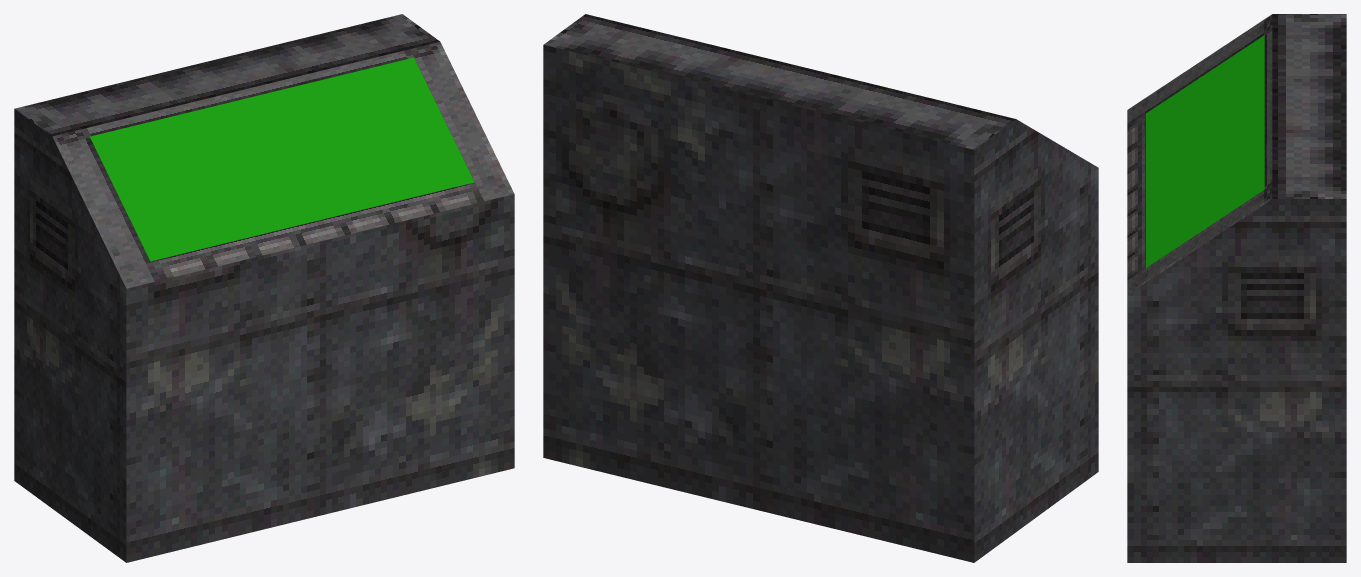
File: console_0.glb
The picture shows the model from 3 angles, left to right: view 1: azimuth 30°, elevation 25°; view 2: azimuth 150°, elevation 25°; view 3: azimuth 270°, elevation 25°; orthographic projection. The views are drawn at different scales.
Parts seen in each view (by area): view 1: Cube.004; view 2: Cube.004; view 3: Cube.004.
Boxes of the visible parts, x1=… form: Cube.004: x1=14, y1=14, x2=514, y2=562; Cube.004: x1=543, y1=14, x2=1098, y2=562; Cube.004: x1=1127, y1=14, x2=1346, y2=562.
Bounding box in the file's own units: 1.2 × 1.1 × 0.6.
Materials: 3 (2 with a texture image).
